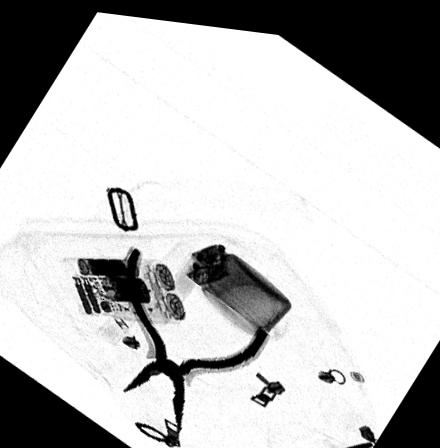Pliers: (122, 243, 269, 421)
